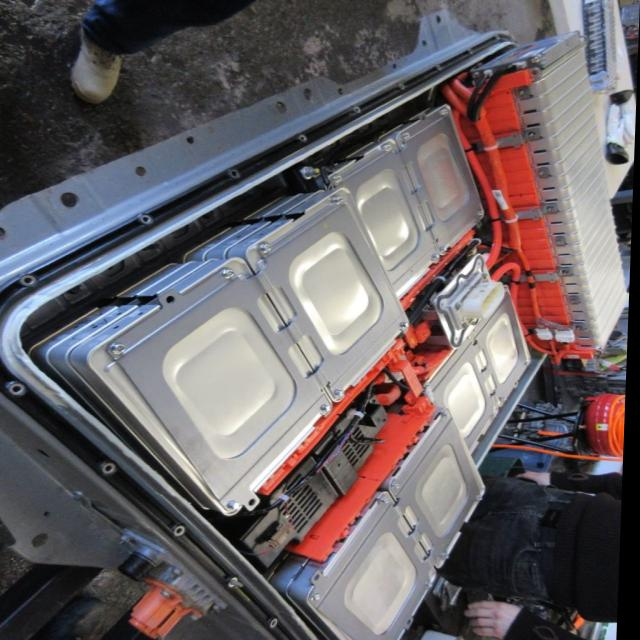Battery Module: (127, 209, 399, 488), (338, 425, 485, 639), (538, 48, 629, 347), (348, 125, 477, 278), (442, 300, 534, 442), (510, 82, 532, 100), (542, 201, 562, 219), (531, 165, 552, 181), (526, 125, 543, 144), (551, 238, 571, 252), (568, 296, 587, 310), (561, 265, 581, 278), (575, 322, 590, 334)
Bolt: (108, 340, 136, 354), (315, 586, 333, 604), (400, 126, 417, 143), (327, 170, 348, 183), (439, 104, 455, 120), (222, 265, 241, 278), (380, 136, 394, 153), (442, 408, 456, 424), (231, 497, 244, 514), (513, 376, 527, 390), (396, 478, 411, 491), (307, 166, 323, 178), (323, 402, 339, 414), (476, 490, 492, 502), (260, 239, 273, 253), (443, 242, 456, 255), (500, 391, 512, 405), (444, 549, 457, 561), (527, 358, 540, 370), (473, 207, 488, 217), (332, 196, 346, 206), (383, 496, 397, 506), (400, 321, 415, 330), (338, 388, 349, 400), (434, 253, 446, 264), (429, 384, 437, 389)
Bus-bar: (269, 322, 452, 563), (405, 231, 481, 309)
Cable: (460, 84, 562, 356)
